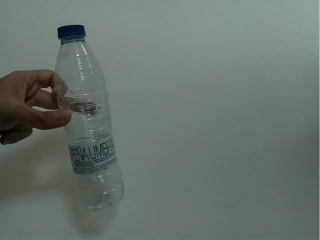botella plastico: (51, 23, 128, 215)
